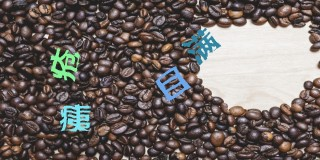满: (182, 28, 221, 64)
疮: (48, 47, 80, 82)
痍: (58, 102, 91, 132)
目: (156, 66, 190, 100)
